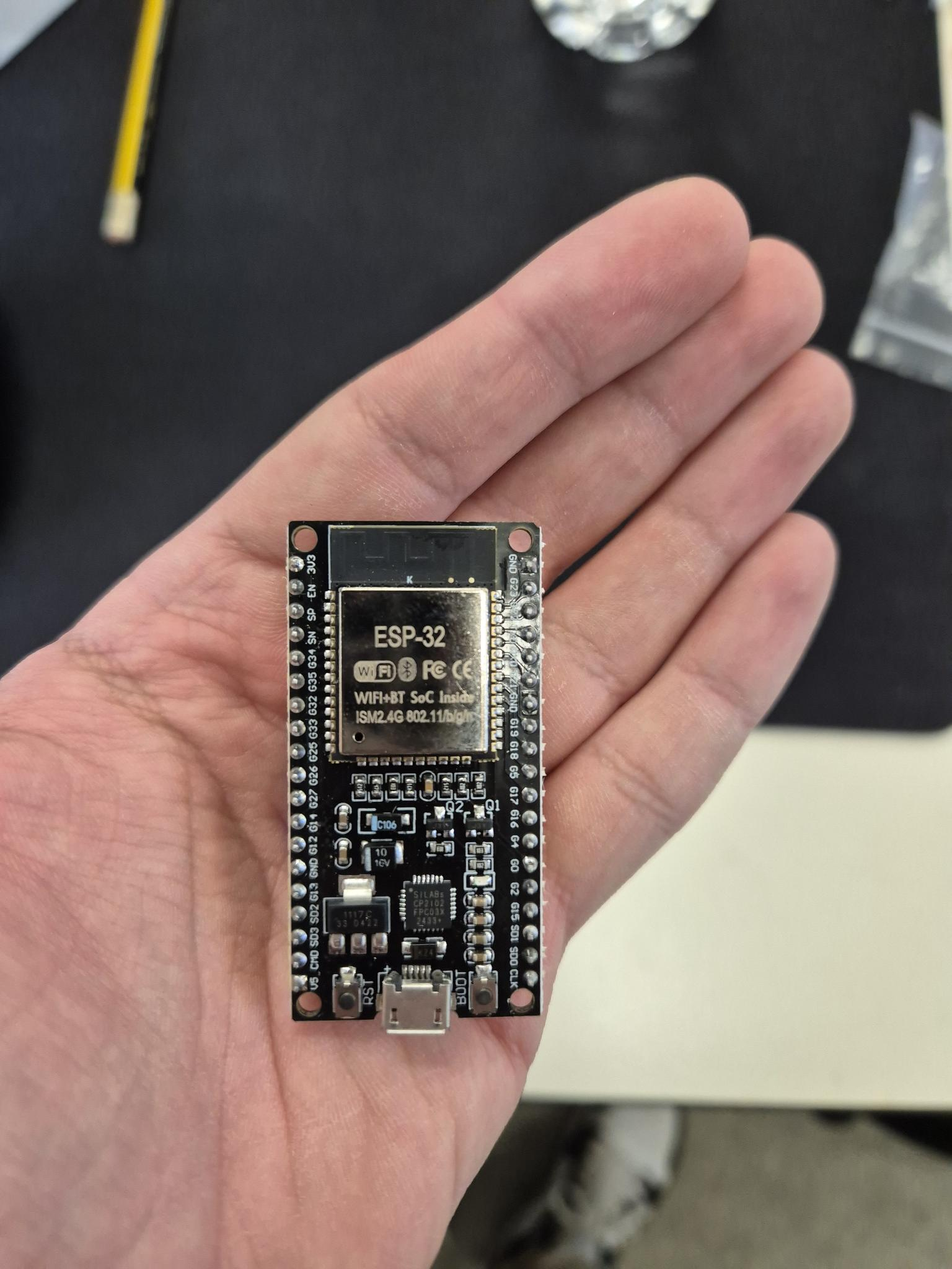esp32-dev: (284, 522, 546, 1018)
